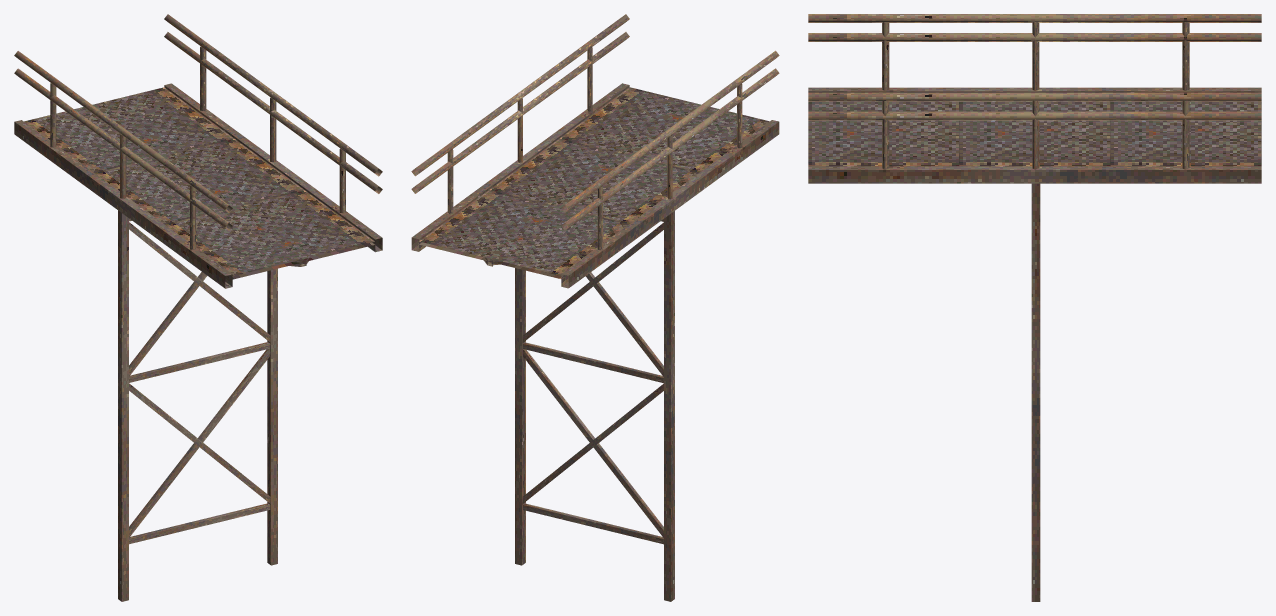
Rendered from bridges_3.glb.
3 views of the same model, side by side, from view 1: azimuth 30°, elevation 25°; view 2: azimuth 150°, elevation 25°; view 3: azimuth 270°, elevation 25° (orthographic). The views are drawn at different scales.
Parts seen in each view (by area): view 1: Bridges_3; view 2: Bridges_3; view 3: Bridges_3.
Part boxes in pixels (<box>): Bridges_3: <box>14,14,382,601</box>; Bridges_3: <box>411,14,779,601</box>; Bridges_3: <box>808,14,1261,601</box>.
Bounding box in the file's own units: 2.1 × 6 × 4.85.
1 material, 1 textured.
